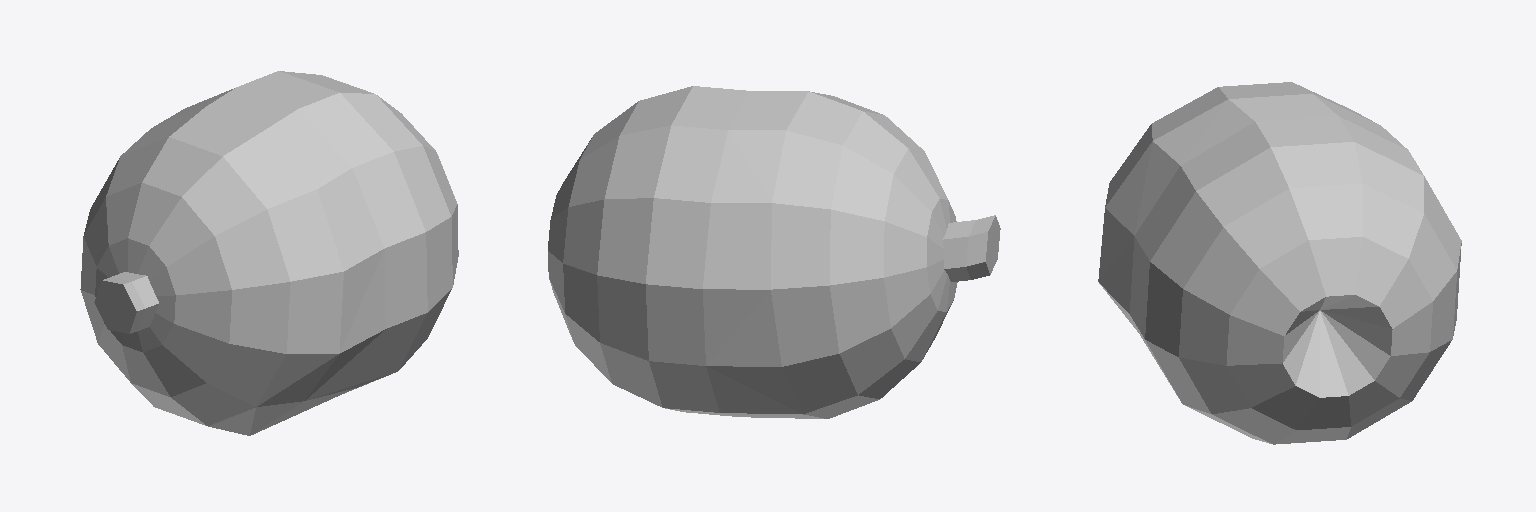
Rendered from olijf.obj.
3 renders of one model, left to right at view 1: azimuth 30°, elevation 25°; view 2: azimuth 150°, elevation 25°; view 3: azimuth 270°, elevation 25°, orthographic.
Bounding box in the file's own units: 0.229 × 0.1725 × 0.19.